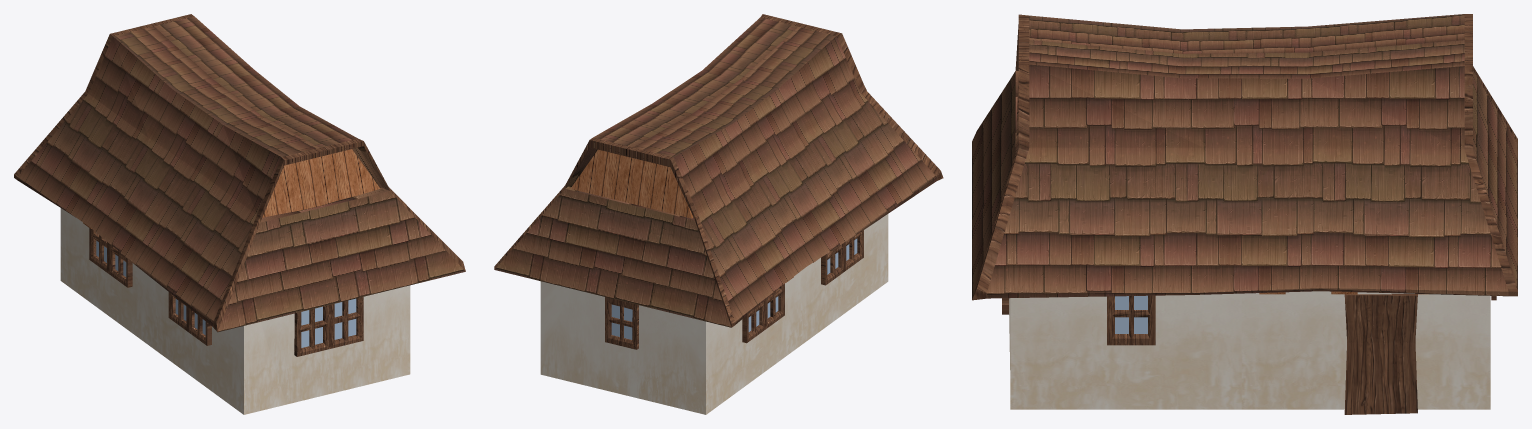
File: domcek1.fbx
3 views of the same model, side by side, from view 1: azimuth 30°, elevation 25°; view 2: azimuth 150°, elevation 25°; view 3: azimuth 270°, elevation 25° (orthographic). The views are drawn at different scales.
Parts seen in each view (by area): view 1: dom_mal; view 2: dom_mal; view 3: dom_mal.
Boxes of the visible parts, bbox=[...] form: dom_mal: bbox=[14, 14, 465, 414]; dom_mal: bbox=[494, 14, 943, 414]; dom_mal: bbox=[972, 14, 1517, 414].
Size of the model in its own units: 982 by 921 by 1427.
12 materials, 8 textured.
